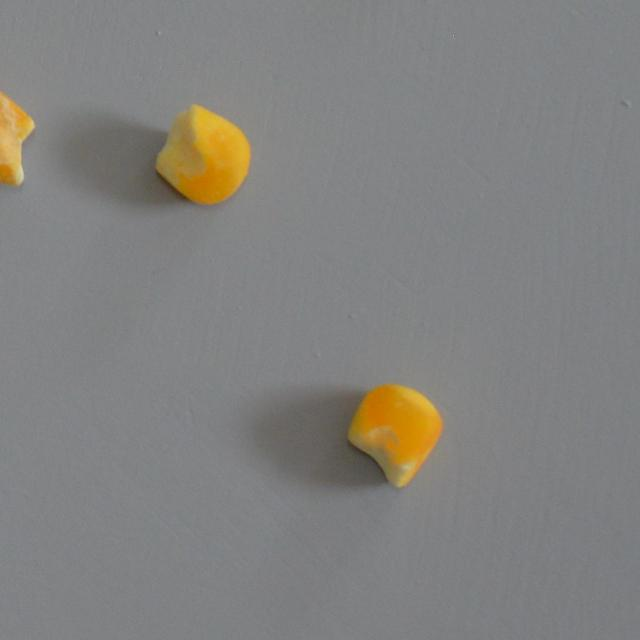dañado: (0, 72, 39, 190)
no_canjicado: (344, 381, 446, 491)
pelicula: (152, 102, 254, 207)
